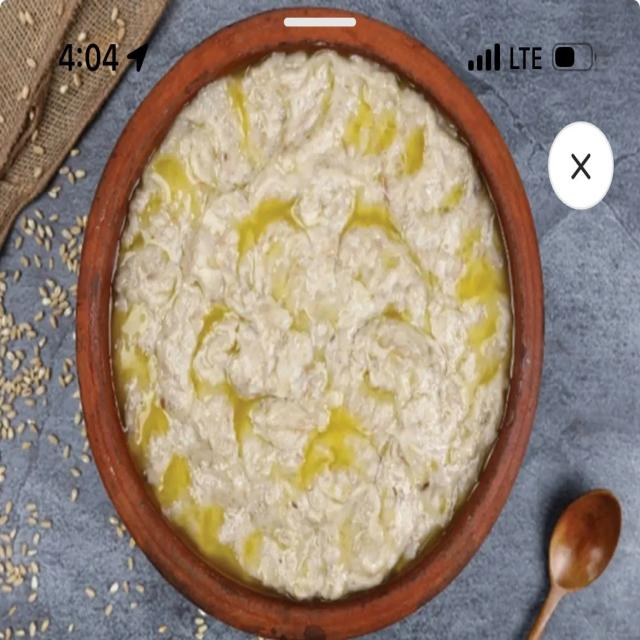Harees: (105, 49, 521, 600)
